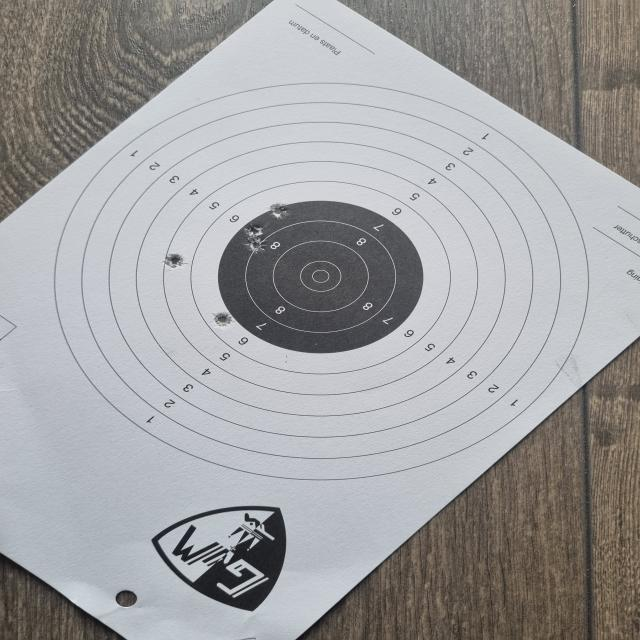5: (164, 254, 188, 267)
6: (212, 313, 233, 326)
7: (242, 224, 266, 238), (266, 204, 290, 218)
8: (244, 239, 266, 252)
Target: (54, 82, 588, 481)
black_contour: (217, 200, 423, 354)
